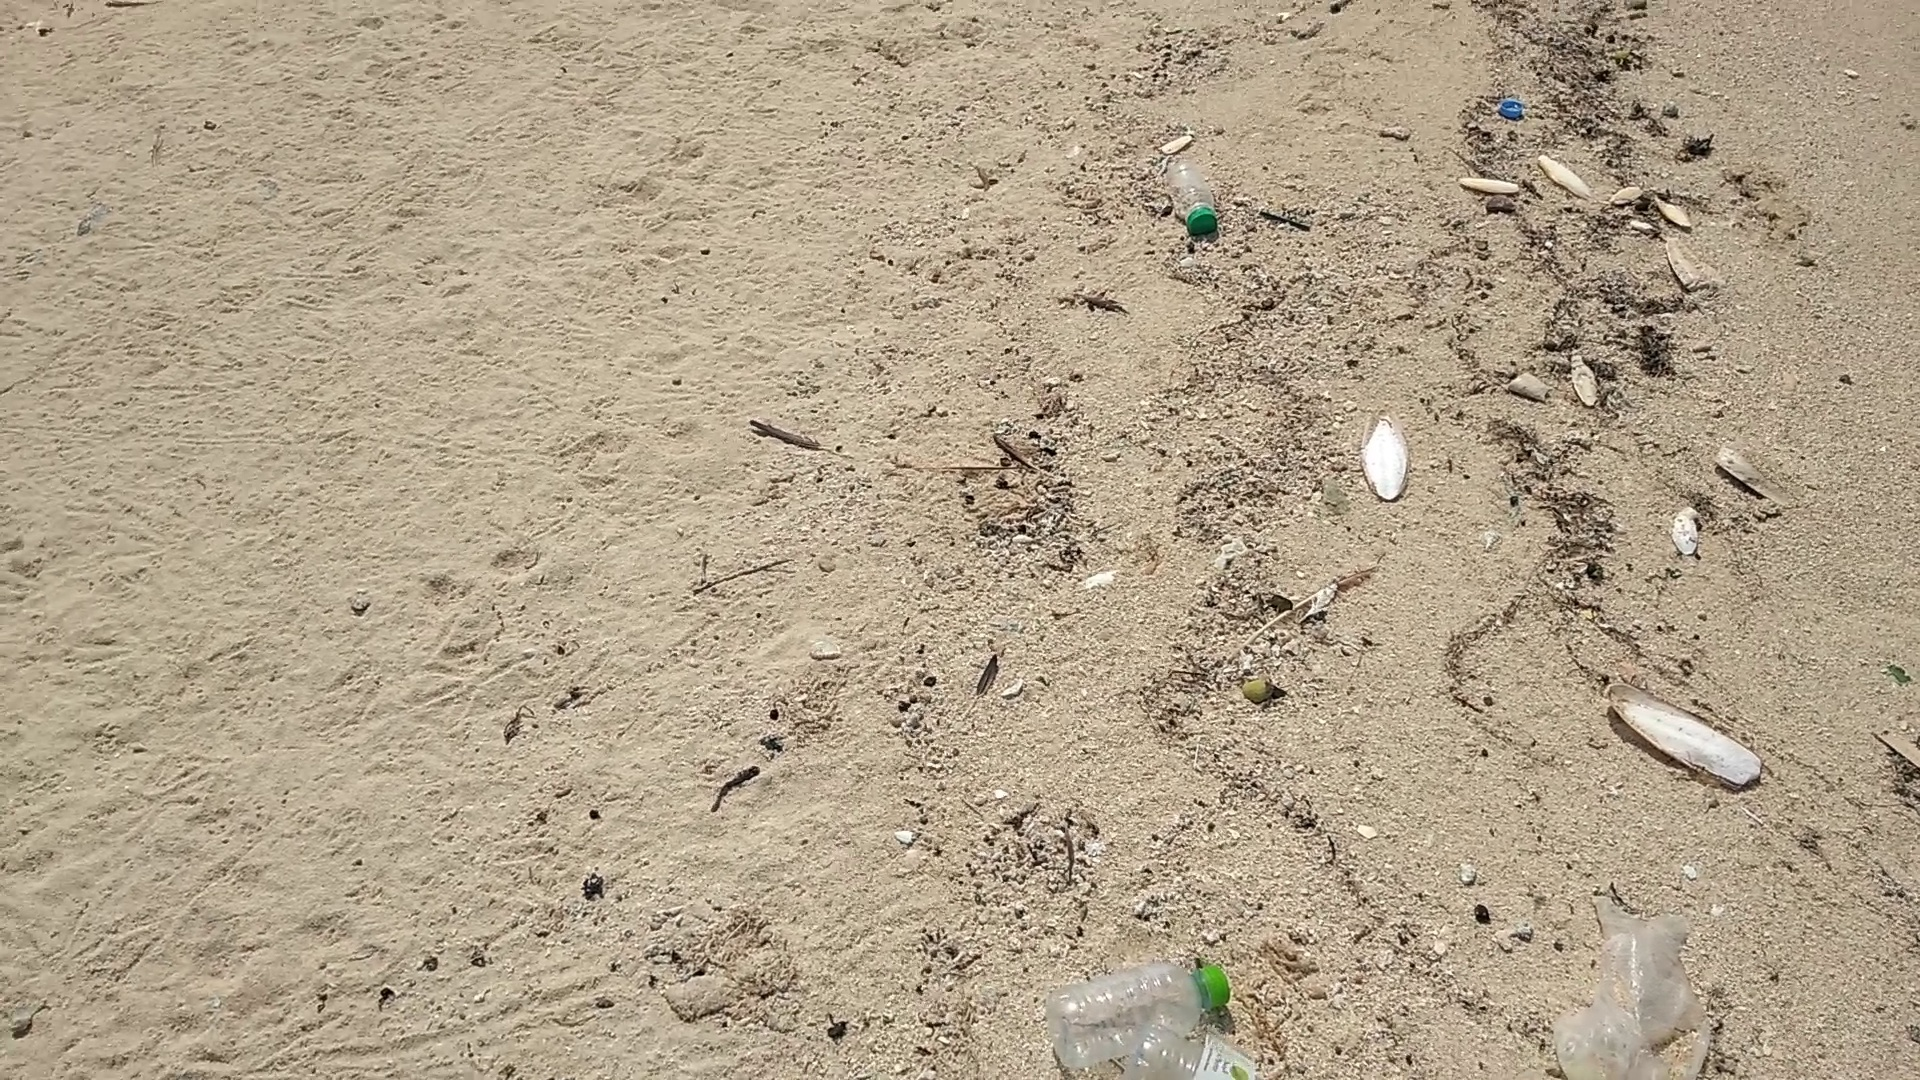plastic: (1549, 891, 1713, 1080), (1036, 963, 1242, 1062), (1133, 998, 1270, 1080), (1166, 160, 1221, 244)
